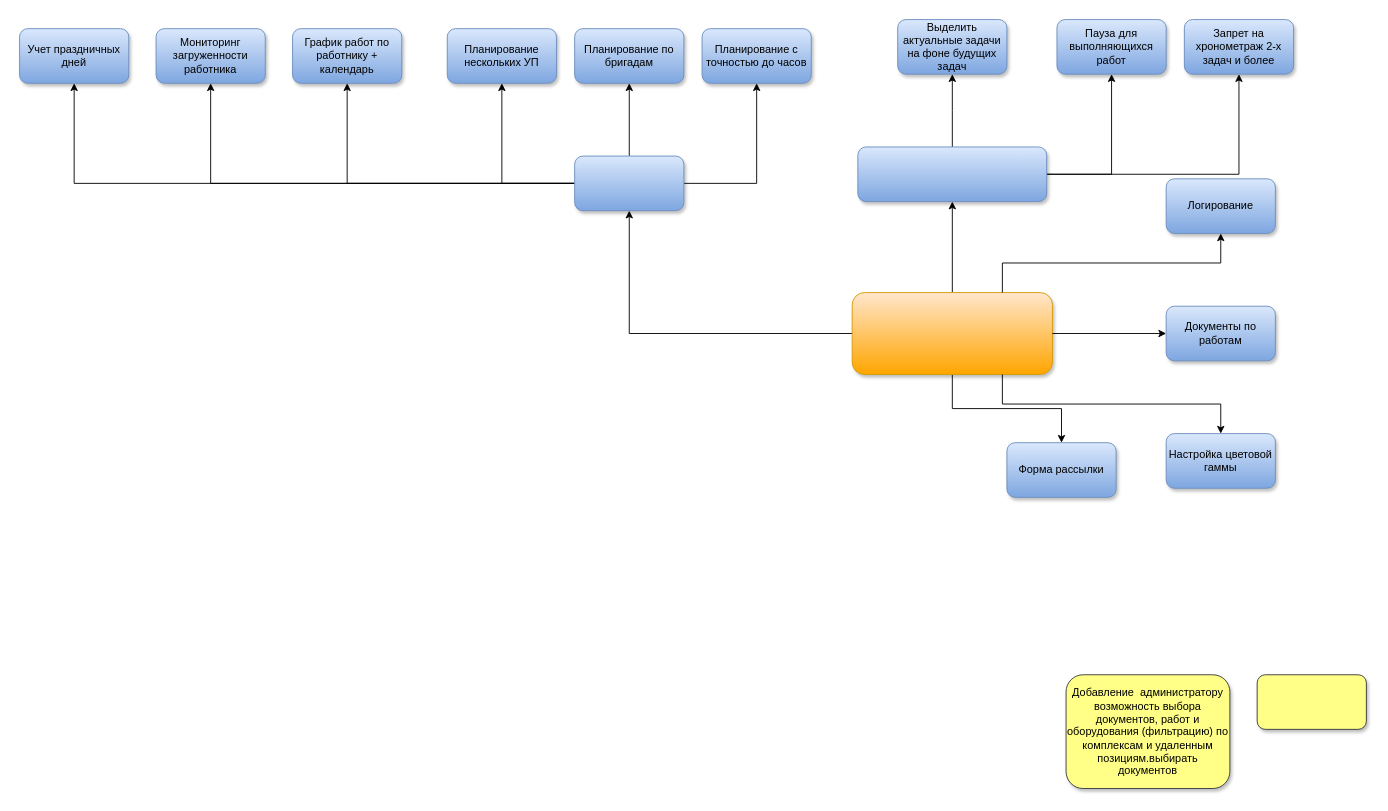
The diagram is 1388 pixels wide and 811 high, and some of its shapes have lost their labels. Each missing label, with the centre of its shape:
"8. Указывать расчетное время задачи во вкладке Задачи на СМТ." goes at (1312,703).
"АСКОУ-ТОиР" goes at (953,334).
"Наряд-задание" goes at (952,175).
"Планирование" goes at (629,184).
